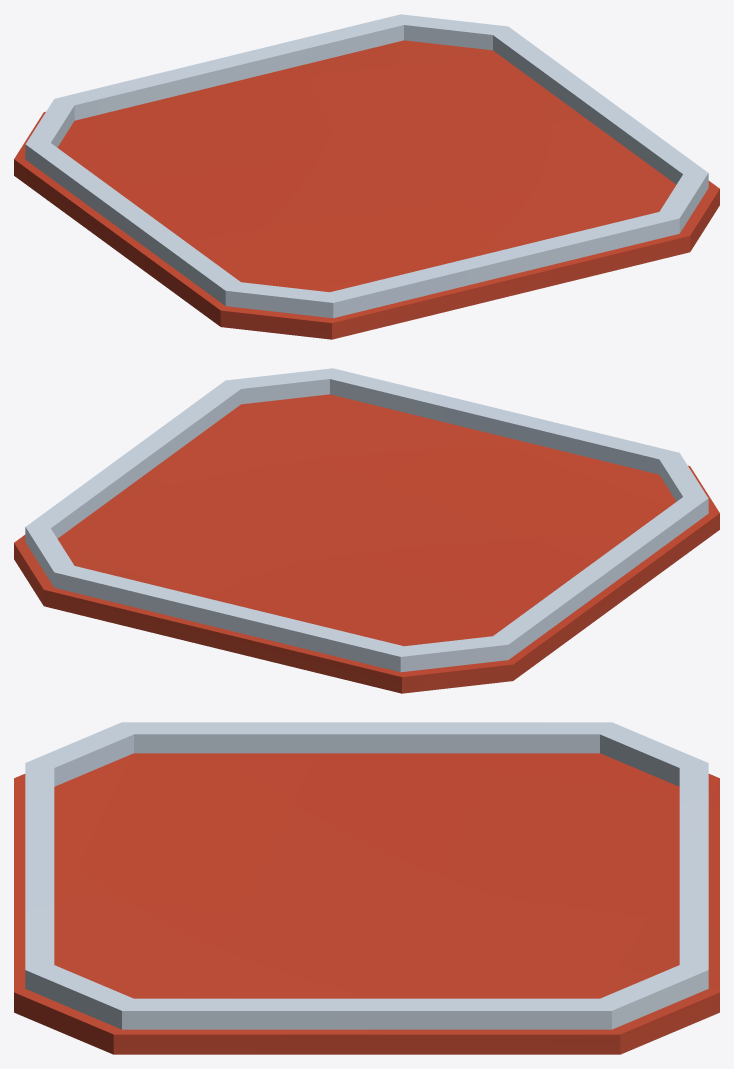
File: base_building.fbx
3 renders of one model, top to bottom at view 1: azimuth 30°, elevation 25°; view 2: azimuth 150°, elevation 25°; view 3: azimuth 270°, elevation 25°, orthographic. The views are drawn at different scales.
Visible parts, largest first — view 1: base_building; view 2: base_building; view 3: base_building.
Boxes of the visible parts, x1=… form: base_building: x1=14, y1=14, x2=719, y2=339; base_building: x1=14, y1=368, x2=719, y2=693; base_building: x1=14, y1=722, x2=719, y2=1054.
Size of the model in its own units: 975 by 59.52 by 975.
